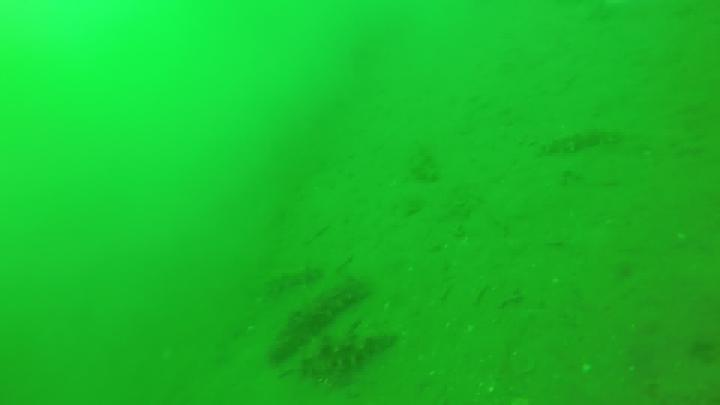holothurian: (246, 280, 366, 358), (303, 332, 398, 364), (538, 129, 622, 154), (250, 260, 321, 288), (411, 149, 439, 181)
